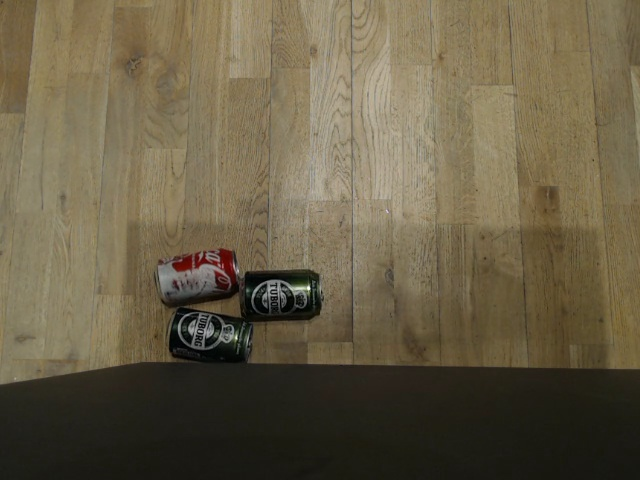beer: (241, 259, 329, 320), (160, 310, 255, 364)
cola: (149, 244, 242, 304)
